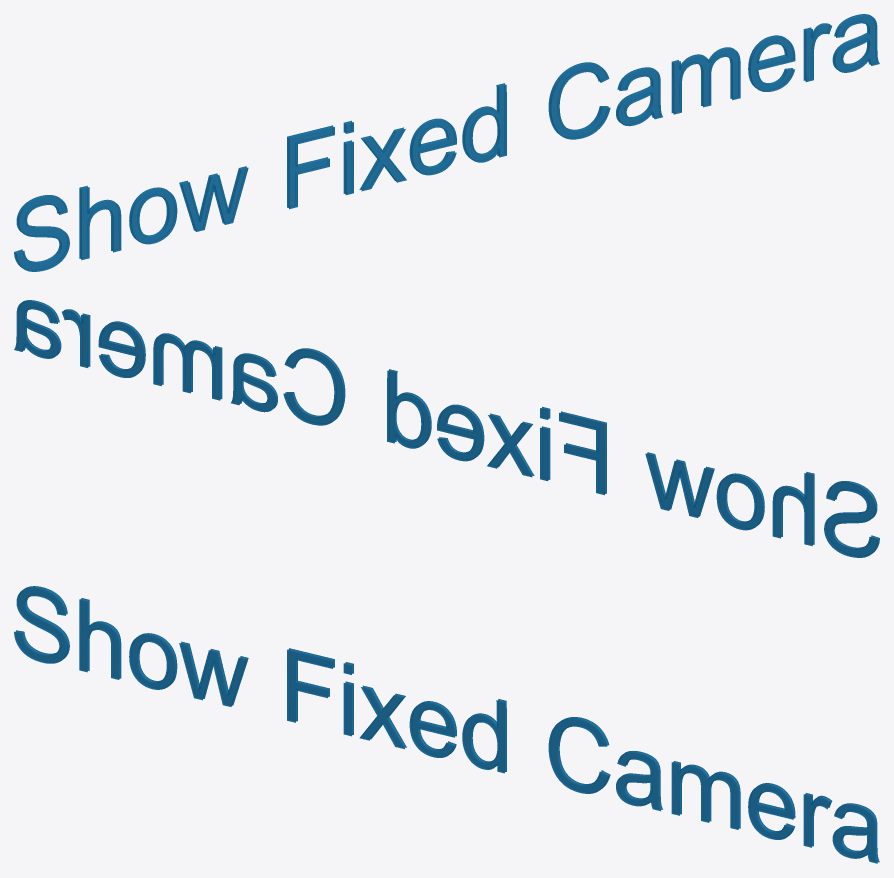
The model's file is show_fixed_camera.FBX.
3 views of the same model, one above another, from view 1: azimuth 30°, elevation 25°; view 2: azimuth 150°, elevation 25°; view 3: azimuth 330°, elevation 25° (orthographic).
Visible parts, largest first — view 1: show_fixed_camera; view 2: show_fixed_camera; view 3: show_fixed_camera.
Boxes of the visible parts, x1=… form: show_fixed_camera: x1=14, y1=14, x2=879, y2=271; show_fixed_camera: x1=14, y1=300, x2=879, y2=557; show_fixed_camera: x1=14, y1=586, x2=879, y2=863.
Size of the model in its own units: 50.84 by 4.2 by 0.2294.
